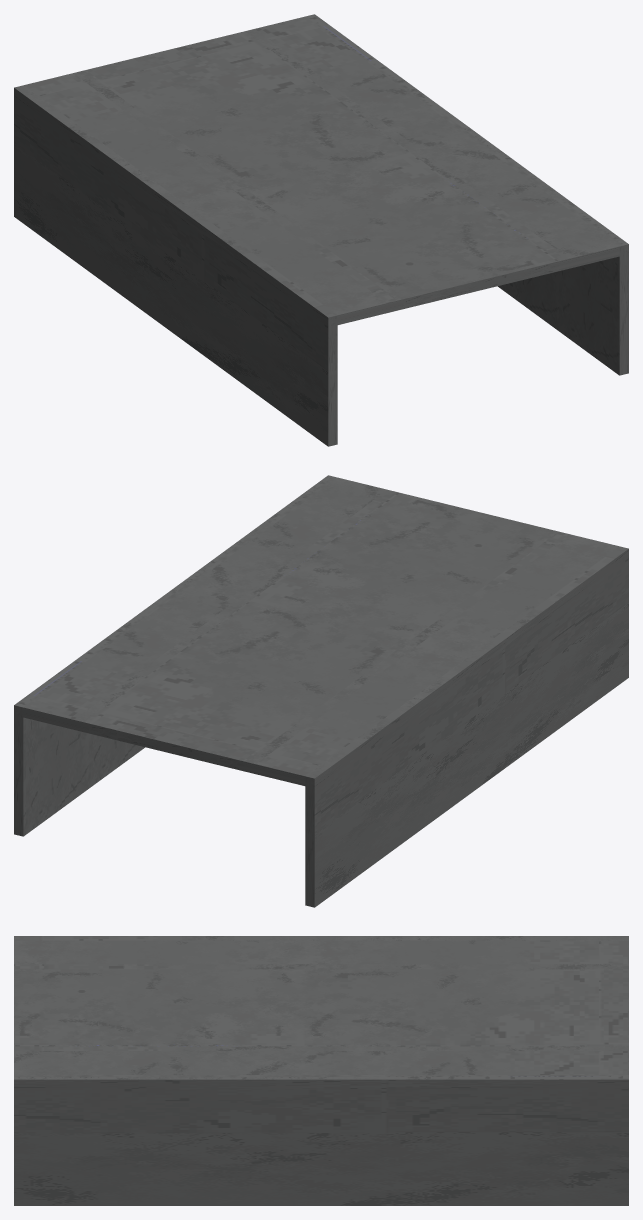
The model's file is Walls.fbx.
The picture shows the model from 3 angles, top to bottom: view 1: azimuth 30°, elevation 25°; view 2: azimuth 150°, elevation 25°; view 3: azimuth 270°, elevation 25°; orthographic projection. The views are drawn at different scales.
Visible parts, largest first — view 1: Walls; view 2: Walls; view 3: Walls.
Part boxes in pixels (x1,y1,x2,y2): Walls: (14,14,628,446); Walls: (14,475,628,907); Walls: (14,936,628,1205).
Size of the model in its own units: 6350 by 2605 by 11495.
Materials: 1 (1 with a texture image).
